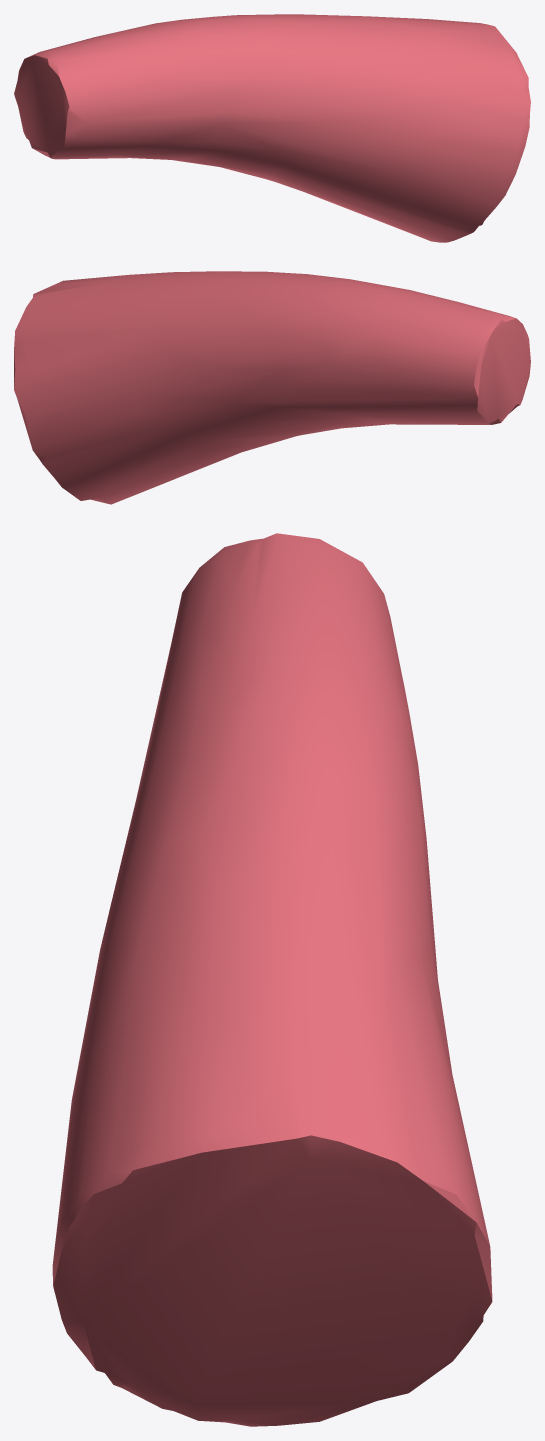
File: fma8616_fj2973.glb
3 renders of one model, top to bottom at view 1: azimuth 30°, elevation 25°; view 2: azimuth 150°, elevation 25°; view 3: azimuth 270°, elevation 25°, orthographic. The views are drawn at different scales.
Parts seen in each view (by area): view 1: FMA8616_FJ2973; view 2: FMA8616_FJ2973; view 3: FMA8616_FJ2973.
Part boxes in pixels (<box>): FMA8616_FJ2973: <box>14,14,530,242</box>; FMA8616_FJ2973: <box>14,271,530,504</box>; FMA8616_FJ2973: <box>52,533,492,1426</box>.
Bounding box in the file's own units: 0.0495 × 0.0274 × 0.0205.
